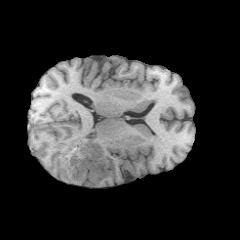glioma: (54, 135, 108, 186)
